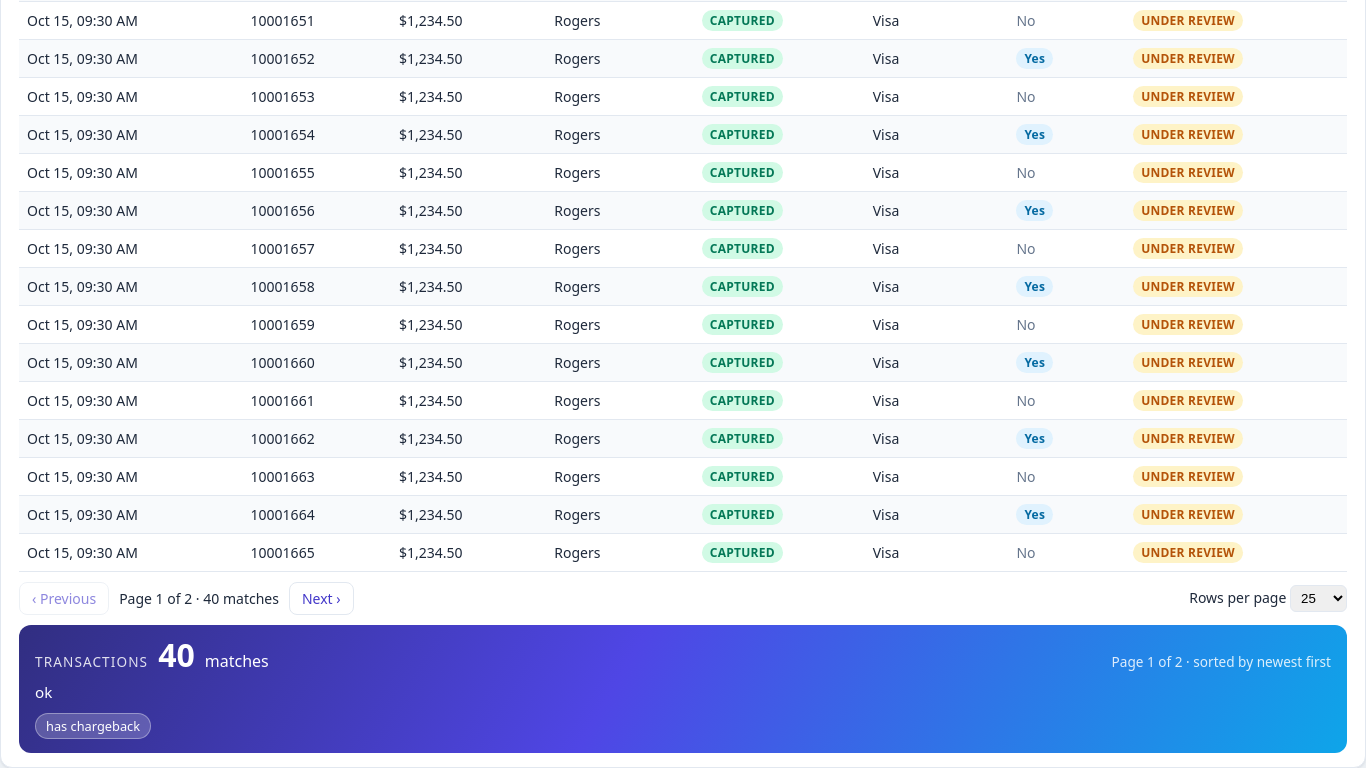
results panel › changes the page size and starts again at page 1
This screenshot has width=1366, height=768.
(page scrolled)
Select "50" in the dropdown labelled "Rows per page" at coordinates (1318, 598), box [1290,585,1347,612]
(page scrolled)
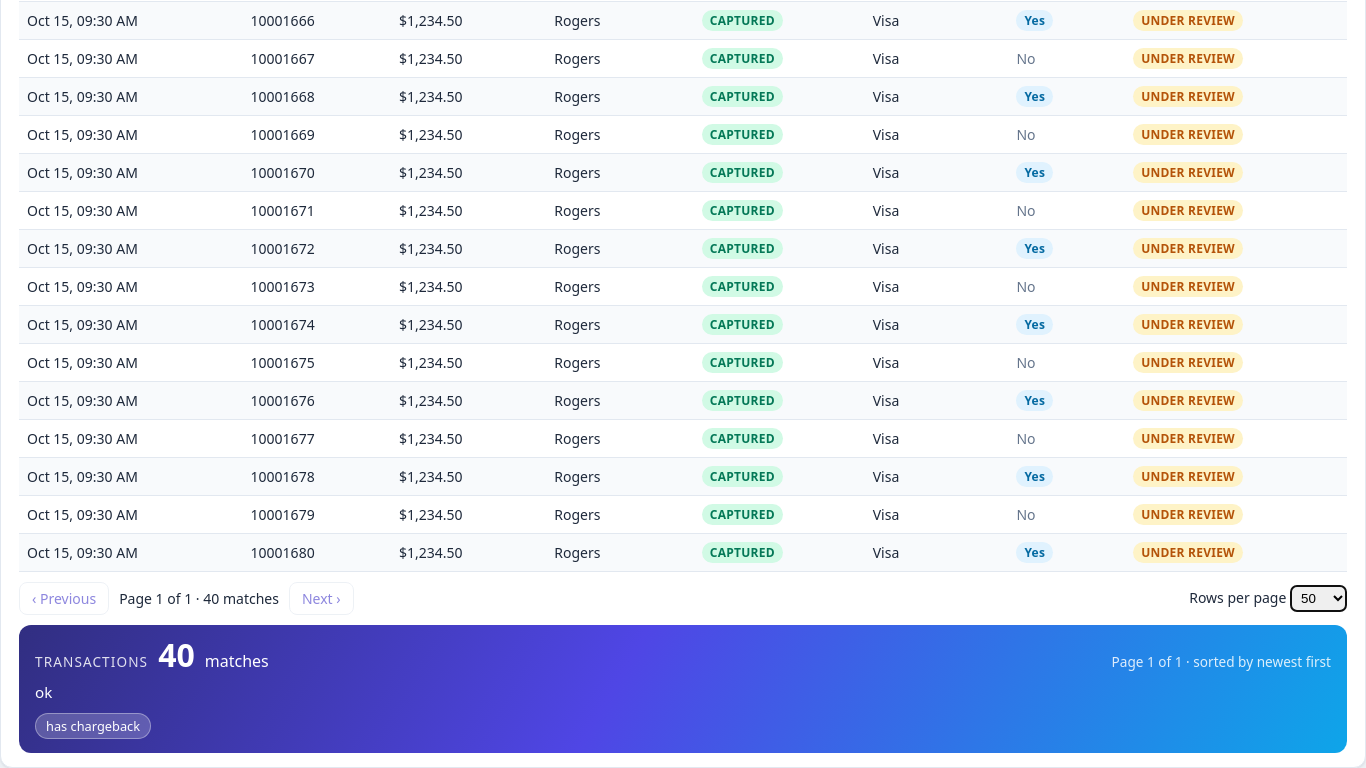
Result: the text "Page 1 of 1 · 40 matches" is shown at [119,589,279,608]
